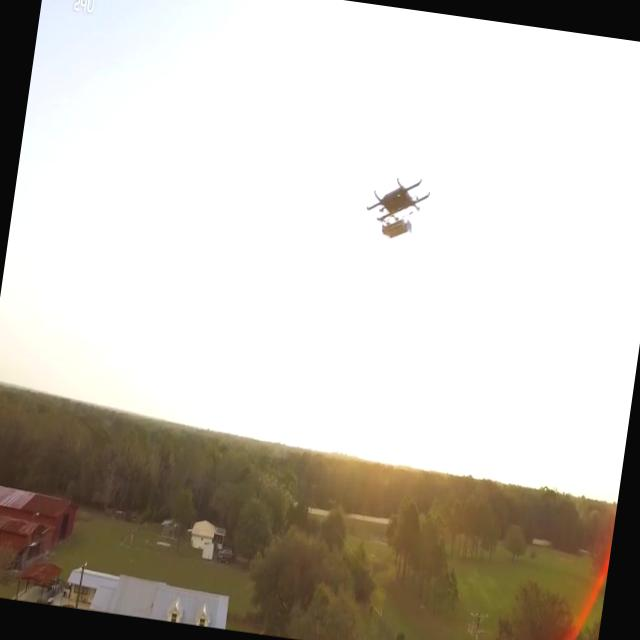drone: (359, 170, 432, 246)
